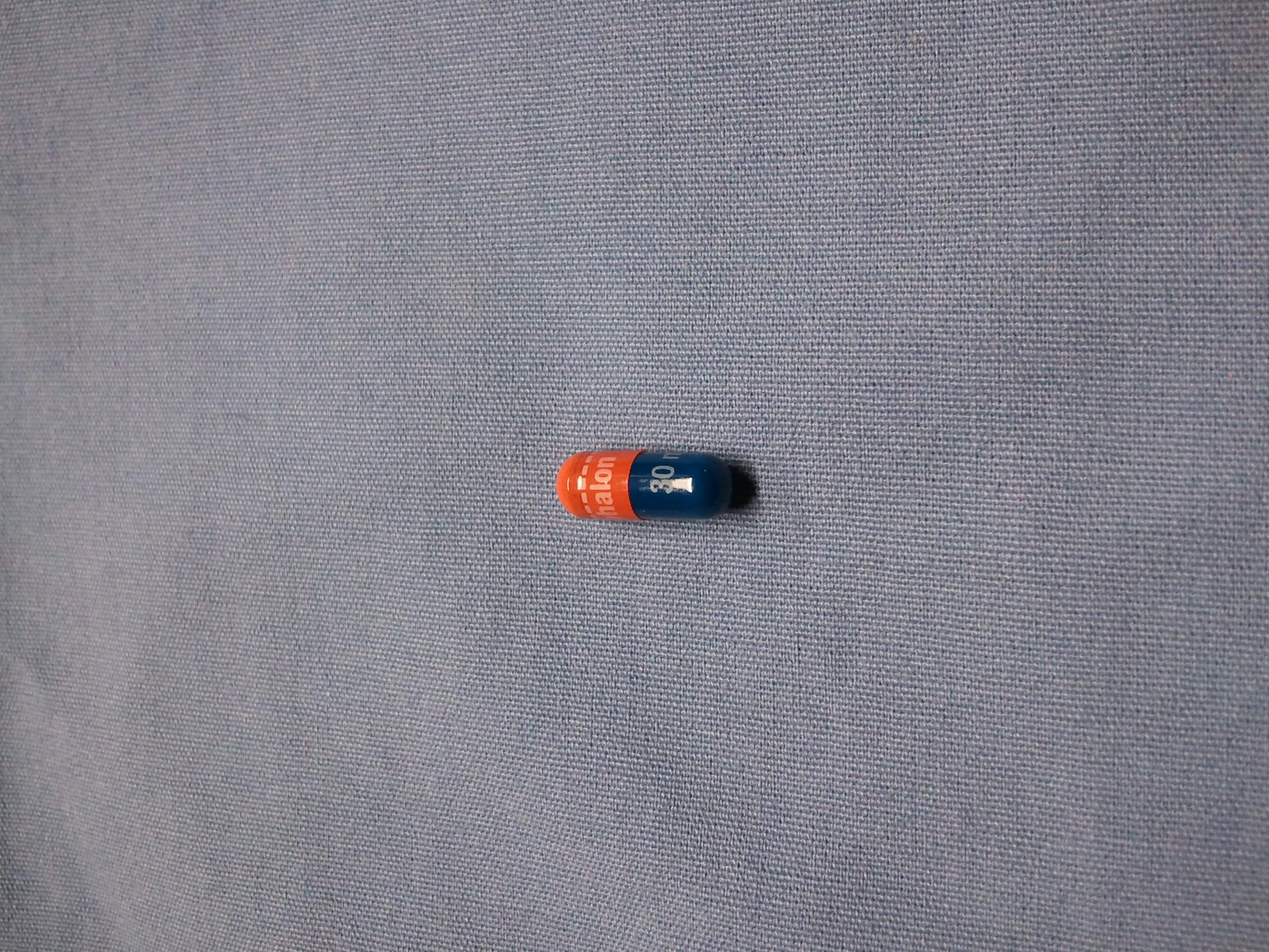Pill: (542, 440, 750, 529)
